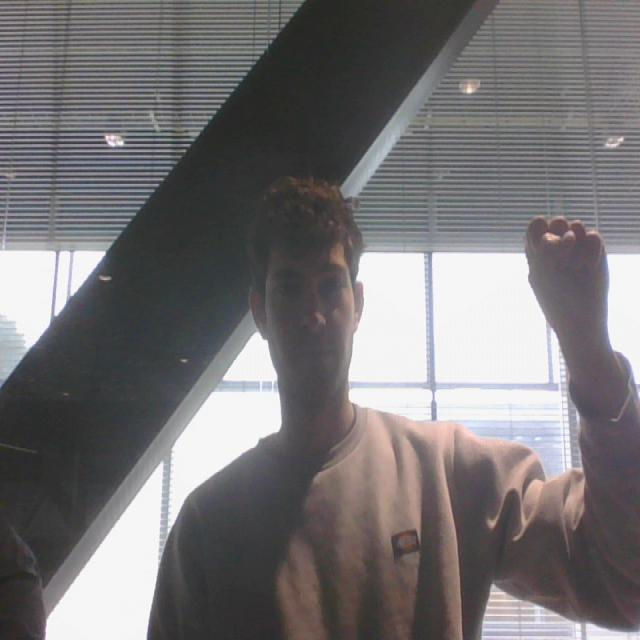stop: (517, 206, 615, 339)
